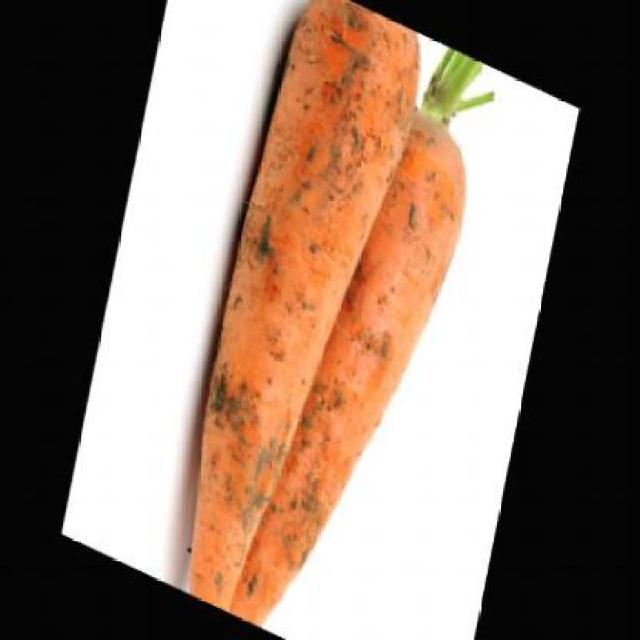carrot: (168, 0, 429, 638), (210, 61, 479, 638)
